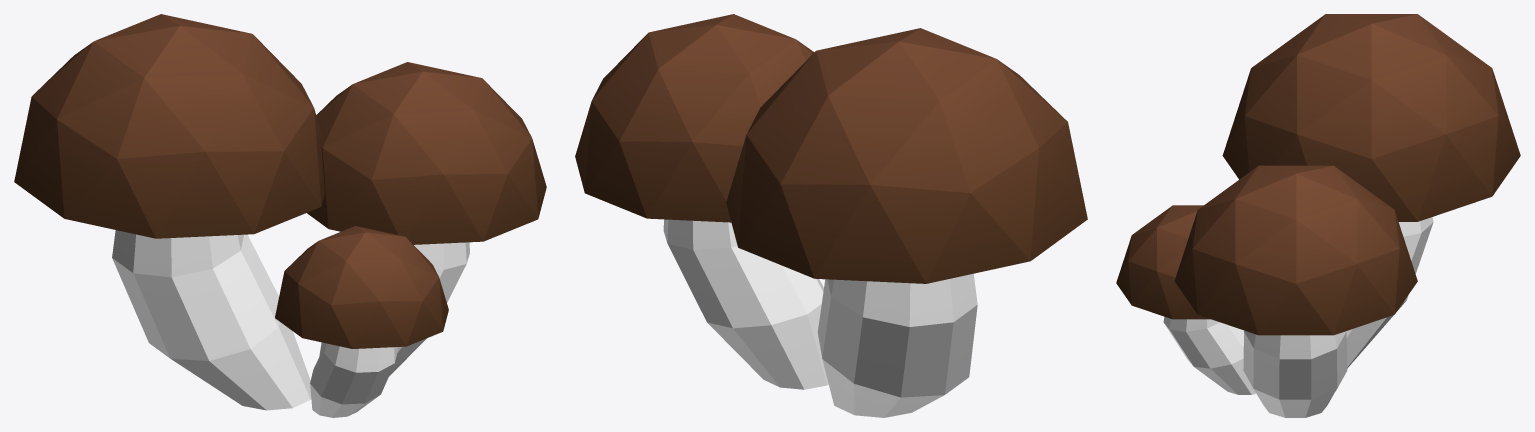
Rendered from Mushroom_big_group_brown.fbx.
3 renders of one model, left to right at view 1: azimuth 30°, elevation 25°; view 2: azimuth 150°, elevation 25°; view 3: azimuth 270°, elevation 25°, orthographic. The views are drawn at different scales.
Visible parts, largest first — view 1: Mushroom_big_group_brown; view 2: Mushroom_big_group_brown; view 3: Mushroom_big_group_brown.
Boxes of the visible parts, bbox=[...] form: Mushroom_big_group_brown: bbox=[14, 14, 546, 417]; Mushroom_big_group_brown: bbox=[575, 14, 1087, 417]; Mushroom_big_group_brown: bbox=[1116, 14, 1520, 417].
Size of the model in its own units: 0.6771 by 0.5118 by 0.5801.
